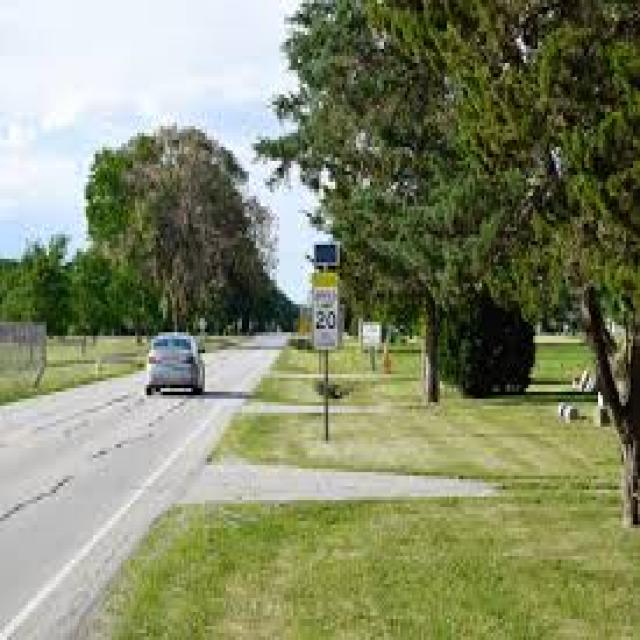speedLimit20: (309, 285, 340, 341)
